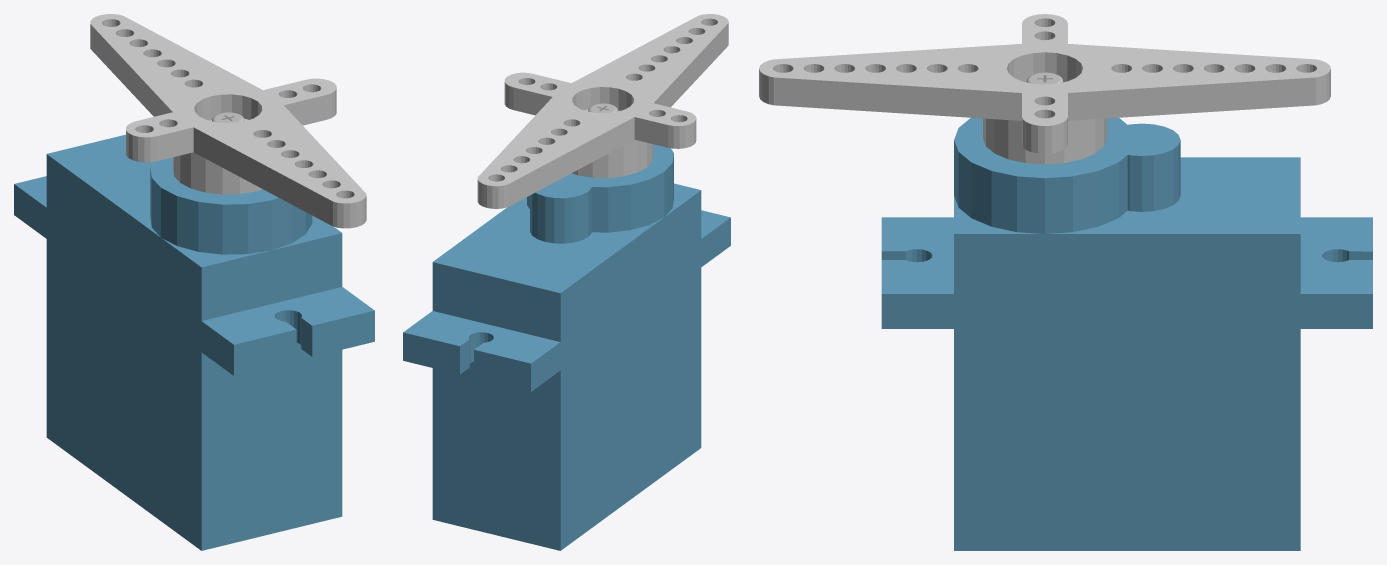
The model's file is servo.glb.
The picture shows the model from 3 angles, left to right: view 1: azimuth 30°, elevation 25°; view 2: azimuth 150°, elevation 25°; view 3: azimuth 270°, elevation 25°; orthographic projection. The views are drawn at different scales.
Parts seen in each view (by area): view 1: Mesh_Mesh_head_geo.001_lambert2SG.001; view 2: Mesh_Mesh_head_geo.001_lambert2SG.001; view 3: Mesh_Mesh_head_geo.001_lambert2SG.001.
Boxes of the visible parts, box(x1,y1,x2,y2) form: Mesh_Mesh_head_geo.001_lambert2SG.001: box(14, 14, 374, 550); Mesh_Mesh_head_geo.001_lambert2SG.001: box(403, 14, 730, 550); Mesh_Mesh_head_geo.001_lambert2SG.001: box(759, 14, 1372, 550).
Size of the model in its own units: 17.22 by 31.7 by 39.85.
